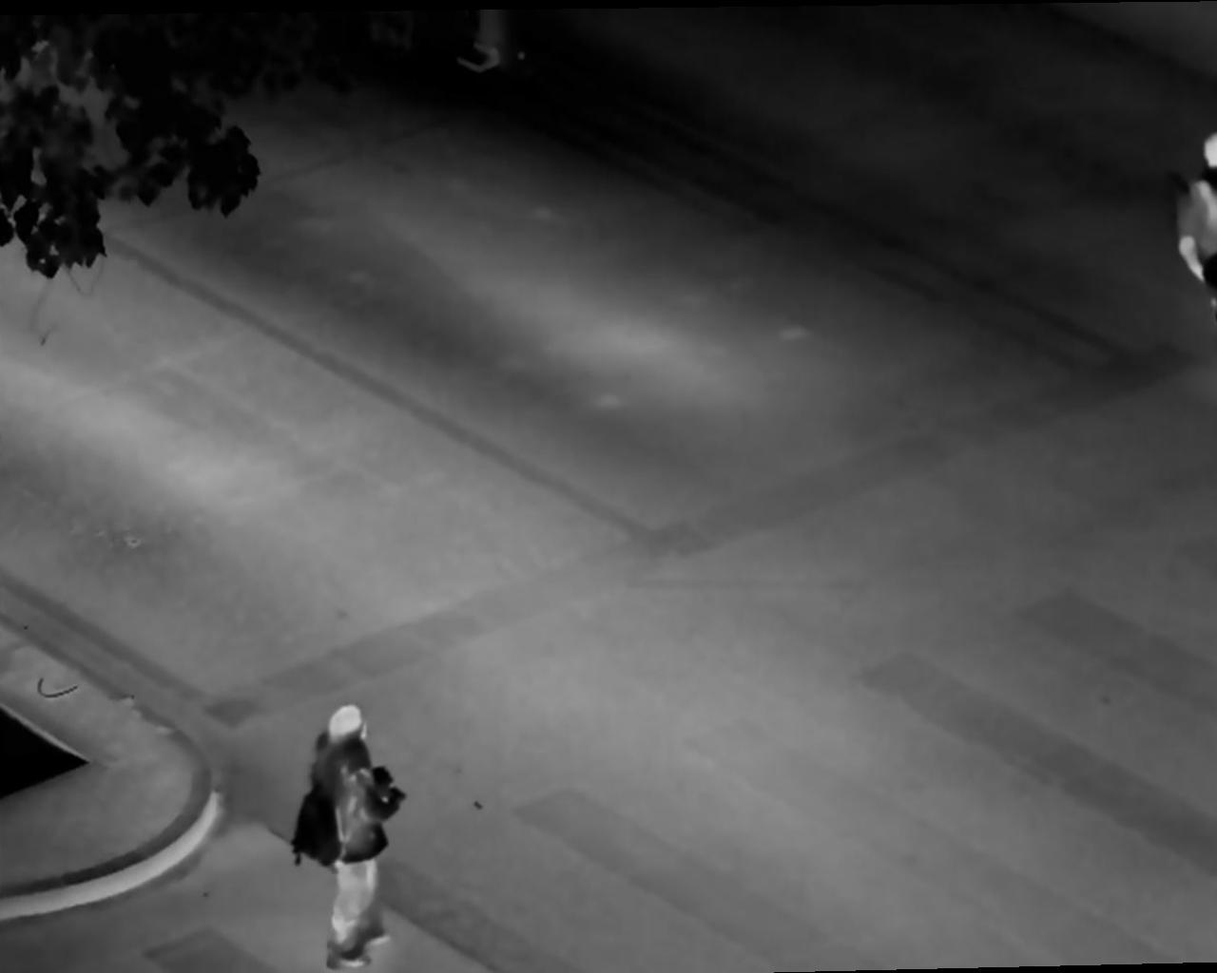person: (288, 702, 407, 973)
